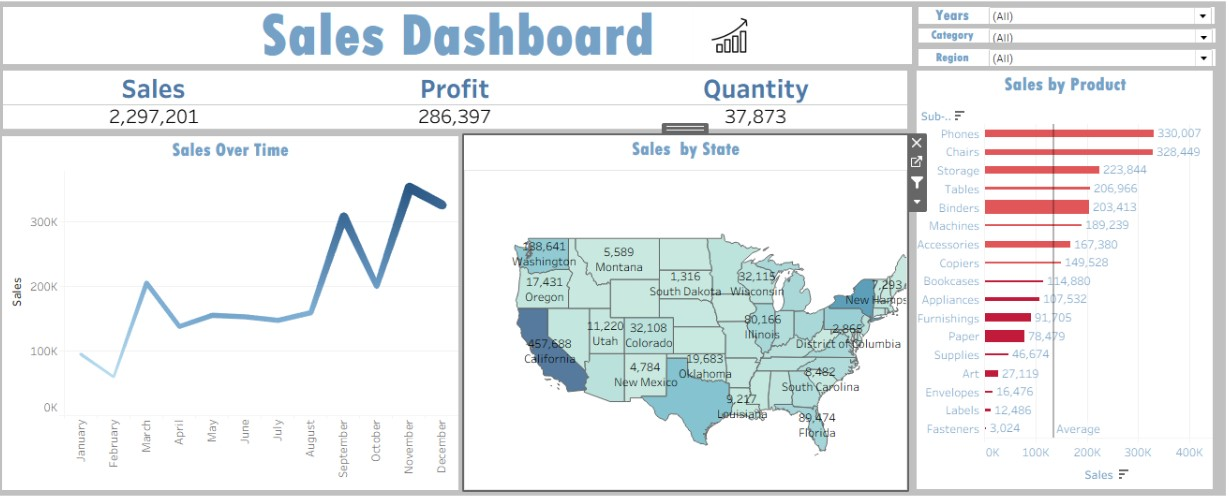

This screenshot's page, from the dashboard's own definition file:
{"tool":"tableau","page":{"name":"Dashboard 1","canvas":[1000,1000],"units":"permille","ordinal":0},"visuals":[{"type":"text","box":[17.3,32.6,723.8,110.5]},{"type":"filter","title":"Cards","param":"[federated.1e5qvx711a8sig1bw6n6p1h5pwz6].[yr:Order Date:ok]","box":[746.3,32.6,235.5,32.6]},{"type":"image","param":"Image/salespng.png","box":[526.4,34.4,138.5,105.1]},{"type":"filter","title":"Cards","param":"[federated.1e5qvx711a8sig1bw6n6p1h5pwz6].[none:Category:nk]","box":[746.3,74.3,236.4,27.2]},{"type":"filter","title":"Cards","param":"[federated.1e5qvx711a8sig1bw6n6p1h5pwz6].[none:Region:nk]","box":[746.3,114.1,236.4,32.6]},{"type":"worksheet","title":"Cards","mark":"Automatic","box":[17.3,155.8,720.4,114.1]},{"type":"worksheet","title":"Sales by Product","mark":"Automatic","rows":["Sub-Category"],"cols":["Sales"],"box":[744.6,155.8,236.4,809.8]},{"type":"worksheet","title":"Sales by State","mark":"Automatic","box":[384.4,280.8,353.2,686.6]},{"type":"worksheet","title":"Sales Over Time","mark":"Automatic","rows":["Sales"],"cols":["Order Date"],"box":[16.4,282.6,363.6,684.8]}]}

Visuals, with their boxes on the dashboard's canvas, which has no fixed pixel size, in thousandths of its width and height (x1, y1, x2, y2). These are canvas units, not pixel positions in the 1229x499 screenshot, which may show the page scaled, cropped or inside an application window:
text: <bbox>17, 33, 741, 143</bbox>
"Cards" filter: <bbox>746, 33, 982, 65</bbox>
image: <bbox>526, 34, 665, 140</bbox>
"Cards" filter: <bbox>746, 74, 983, 102</bbox>
"Cards" filter: <bbox>746, 114, 983, 147</bbox>
"Cards" worksheet: <bbox>17, 156, 738, 270</bbox>
"Sales by Product" worksheet: <bbox>745, 156, 981, 966</bbox>
"Sales by State" worksheet: <bbox>384, 281, 738, 967</bbox>
"Sales Over Time" worksheet: <bbox>16, 283, 380, 967</bbox>
